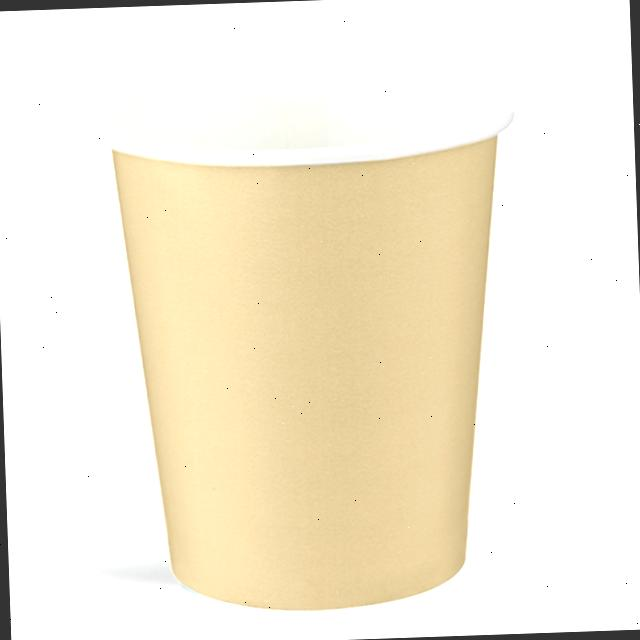trash: (59, 21, 538, 625)
